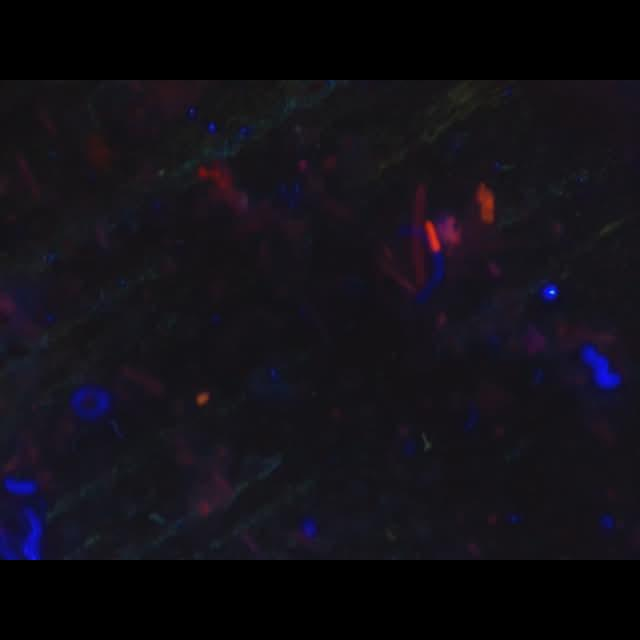Fragment: (196, 162, 248, 212), (475, 181, 499, 225)
